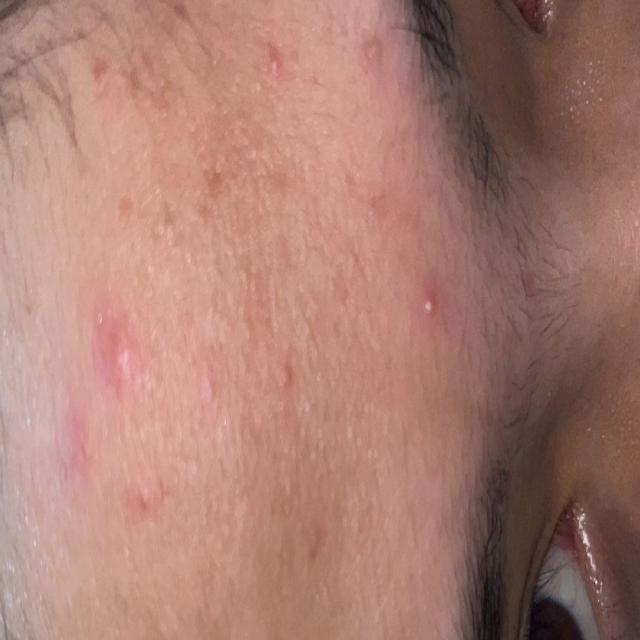papule: (48, 288, 177, 526)
pustule: (245, 46, 291, 85), (409, 289, 448, 327)
